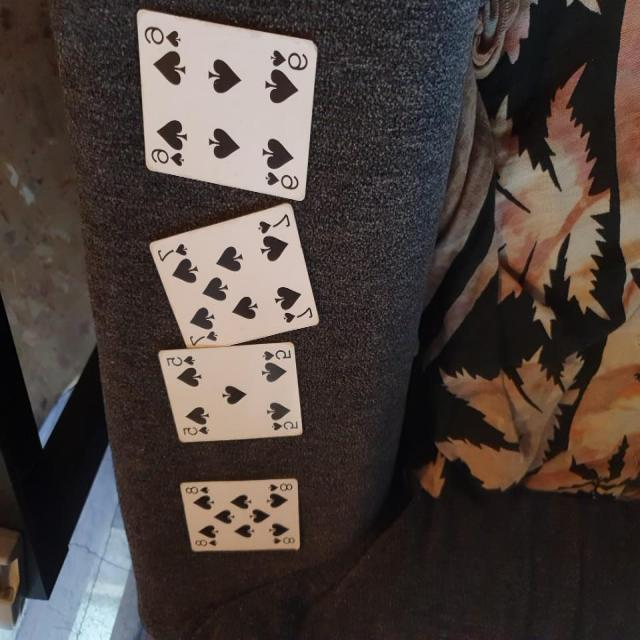5 of spades: (153, 337, 312, 450)
6 of spades: (136, 0, 330, 205)
7 of spades: (147, 202, 326, 356)
8 of spades: (179, 469, 307, 556)
